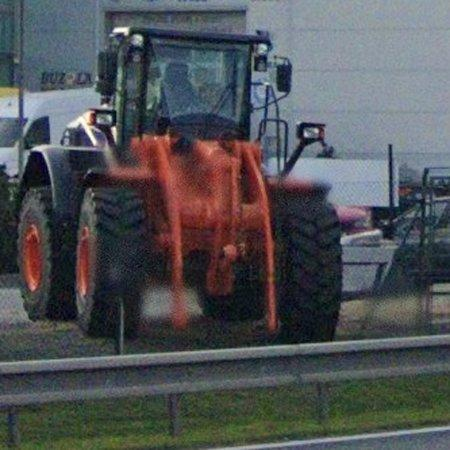tractors: (18, 27, 343, 342)
